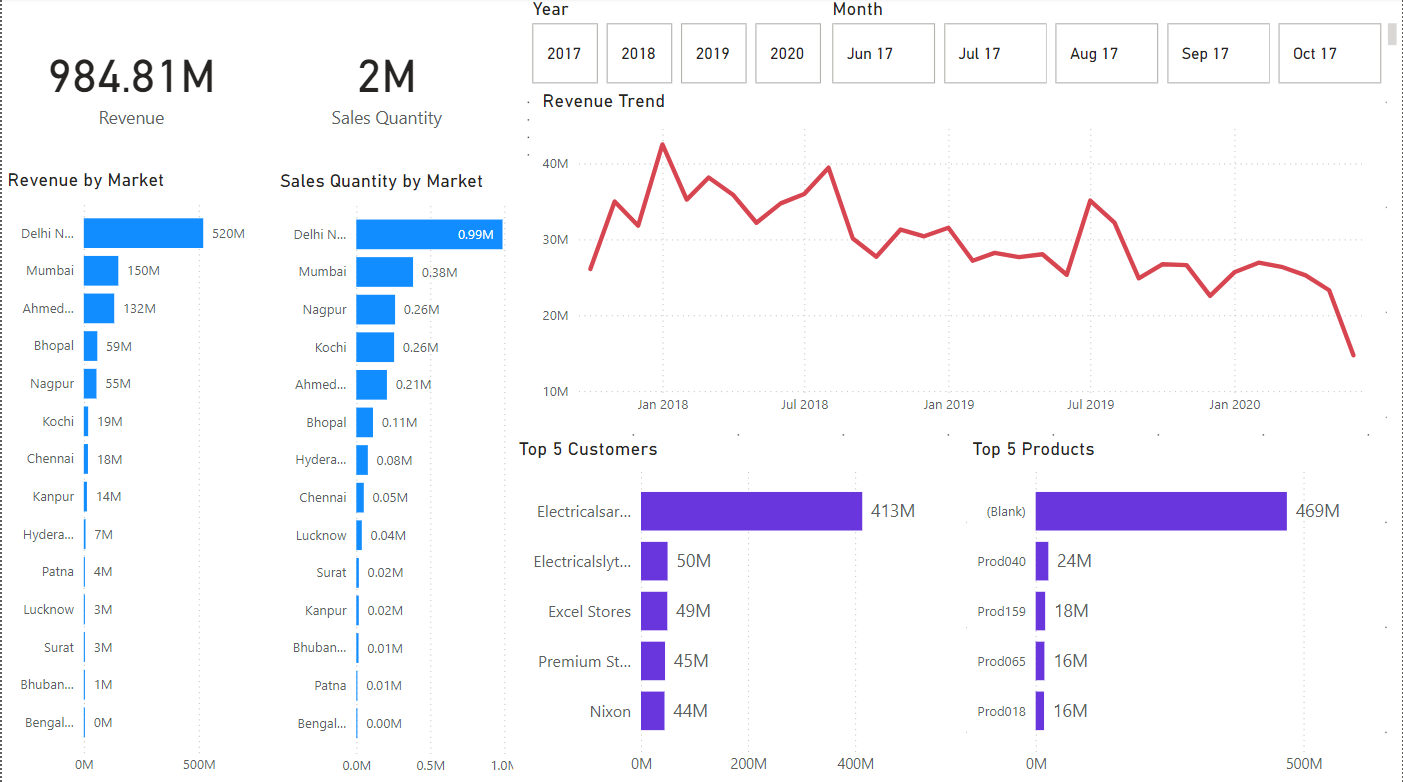

The page's visual inventory and layout, read from the dashboard file:
{"tool":"powerbi","page":{"name":"Page 1","canvas":[1280,720],"ordinal":0},"visuals":[{"type":"card","fields":{"Values":["BaseMeasures.Revenue"]},"box":[0,0,236.9,157.1],"z":0},{"type":"card","fields":{"Values":["BaseMeasures.Sales Qty"]},"box":[236.9,0,230.6,157.1],"z":1000},{"type":"clusteredBarChart","title":"Revenue by Market","fields":{"Y":["BaseMeasures.Revenue"],"Category":["sales markets.markets_name"]},"box":[0,157.1,249.4,563.5],"z":2000},{"type":"clusteredBarChart","title":"Sales Quantity by Market","fields":{"Y":["BaseMeasures.Sales Qty"],"Category":["sales markets.markets_name"]},"box":[249.6,157.4,249.6,563.2],"z":3000},{"type":"advancedSlicerVisual","title":"Year","fields":{"Values":["sales date.year"]},"box":[480,0,274.3,84.8],"z":4000},{"type":"advancedSlicerVisual","title":"Month","fields":{"Values":["sales date.cy_date"]},"box":[754.3,0,526.1,84.8],"z":5000},{"type":"clusteredBarChart","title":"Top 5 Customers","fields":{"Category":["sales customers.custmer_name"],"Y":["BaseMeasures.Revenue"]},"box":[467.2,401.9,414.7,318.7],"z":6000},{"type":"clusteredBarChart","title":"Top 5 Products","fields":{"Category":["sales products.product_code"],"Y":["BaseMeasures.Revenue"]},"box":[881.9,401.9,382.7,318.7],"z":7000},{"type":"lineChart","title":"Revenue Trend","fields":{"Y":["BaseMeasures.Revenue"],"Category":["sales date.cy_date.Variation.Date Hierarchy.Year","sales date.cy_date.Variation.Date Hierarchy.Month"]},"box":[489,84.5,775.7,305.9],"z":7001}]}

Visuals, with their boxes in screenshot pixels (x1, y1, x2, y2), scaled from the page's 1280x720 canvas onto the 1403x782 screenshot:
card - BaseMeasures.Revenue: x1=0, y1=0, x2=260, y2=171
card - BaseMeasures.Sales Qty: x1=260, y1=0, x2=512, y2=171
"Revenue by Market" clusteredBarChart: x1=0, y1=171, x2=273, y2=781
"Sales Quantity by Market" clusteredBarChart: x1=274, y1=171, x2=547, y2=781
"Year" advancedSlicerVisual: x1=526, y1=0, x2=827, y2=92
"Month" advancedSlicerVisual: x1=827, y1=0, x2=1402, y2=92
"Top 5 Customers" clusteredBarChart: x1=512, y1=437, x2=967, y2=781
"Top 5 Products" clusteredBarChart: x1=967, y1=437, x2=1386, y2=781
"Revenue Trend" lineChart: x1=536, y1=92, x2=1386, y2=424
